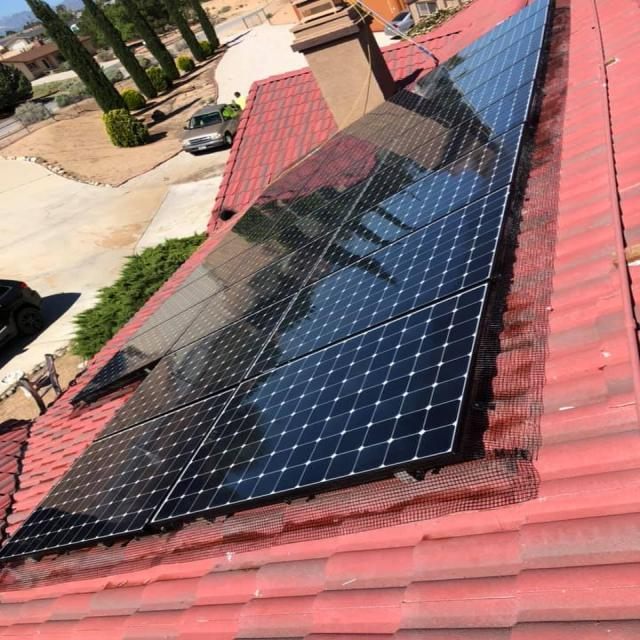clean-solar-panel: (3, 0, 549, 559)
